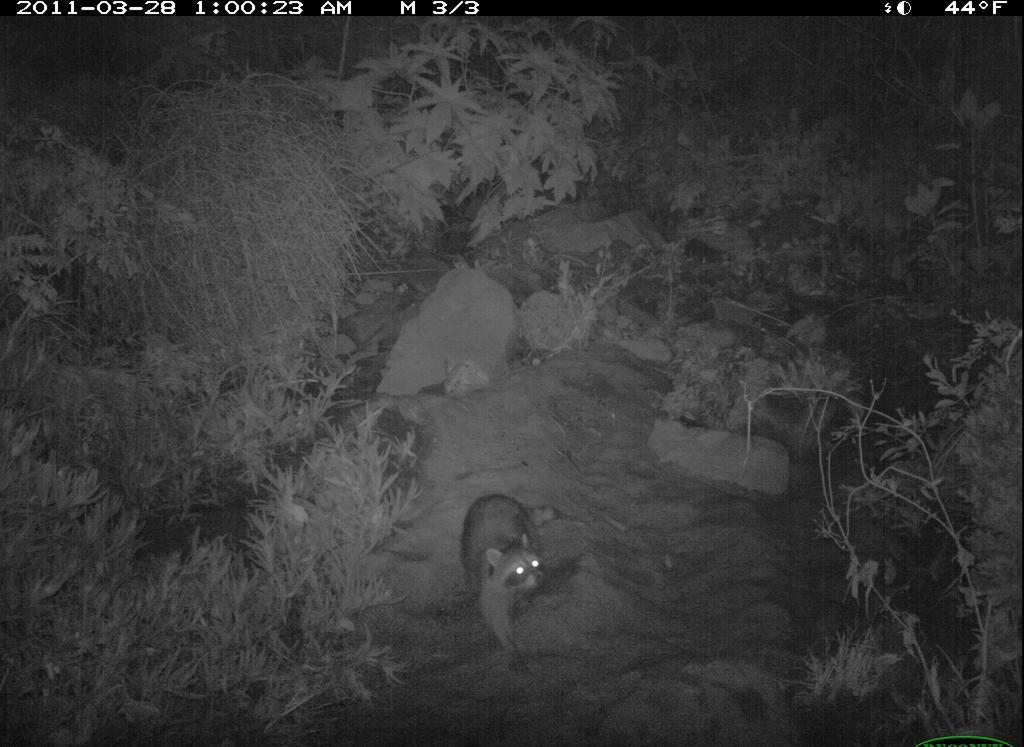raccoon: (452, 487, 571, 664)
